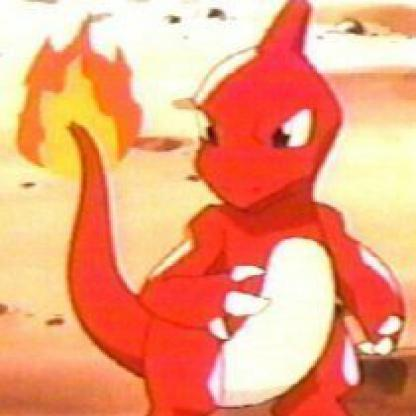Charmeleon: (15, 12, 415, 415)
